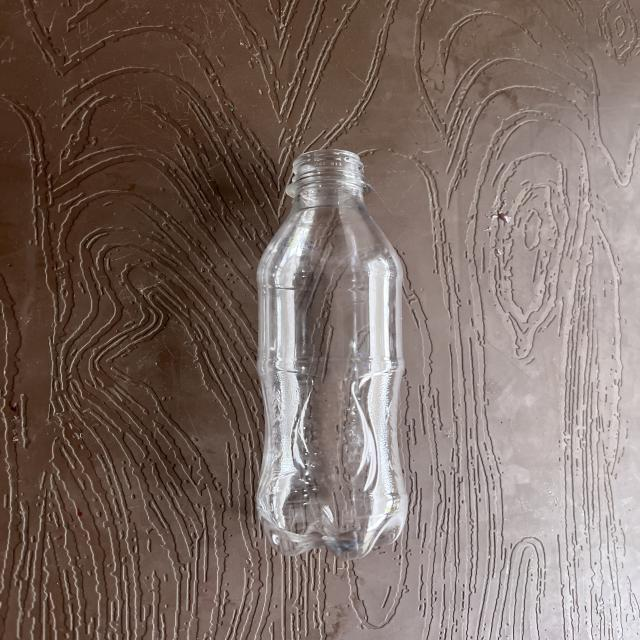PET_ClearBottle: (44, 156, 428, 569)
